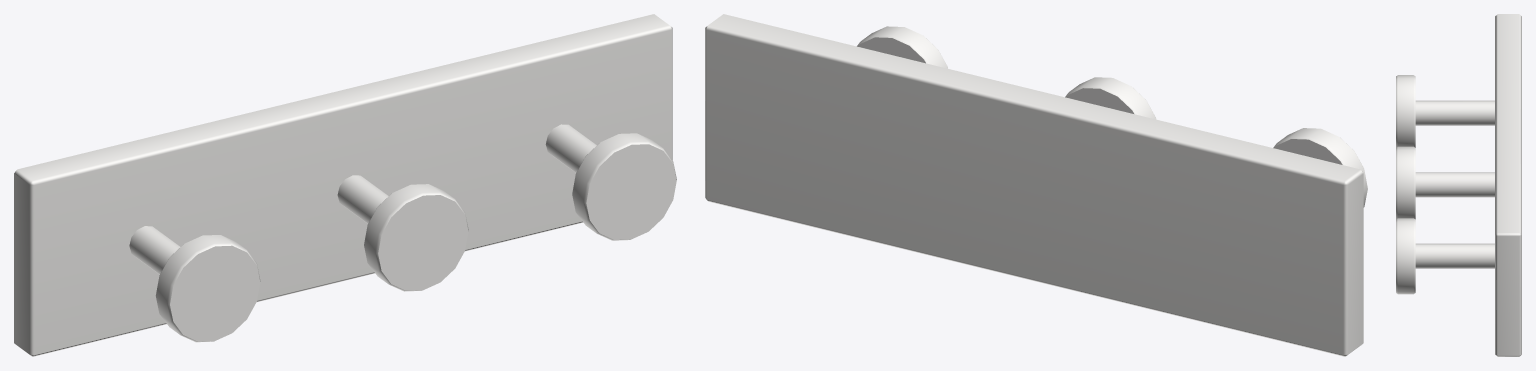
Rendered from Hanger_1.glb.
3 renders of one model, left to right at view 1: azimuth 30°, elevation 25°; view 2: azimuth 150°, elevation 25°; view 3: azimuth 270°, elevation 25°, orthographic. The views are drawn at different scales.
Parts seen in each view (by area): view 1: Hanger_1; view 2: Hanger_1; view 3: Hanger_1.
Boxes of the visible parts, box(x1,y1,x2,y2) form: Hanger_1: box(14, 14, 676, 356); Hanger_1: box(705, 14, 1367, 356); Hanger_1: box(1396, 14, 1521, 356).
Bounding box in the file's own units: 0.4698 × 0.1231 × 0.1131.
Materials: 1 (1 with a texture image).
